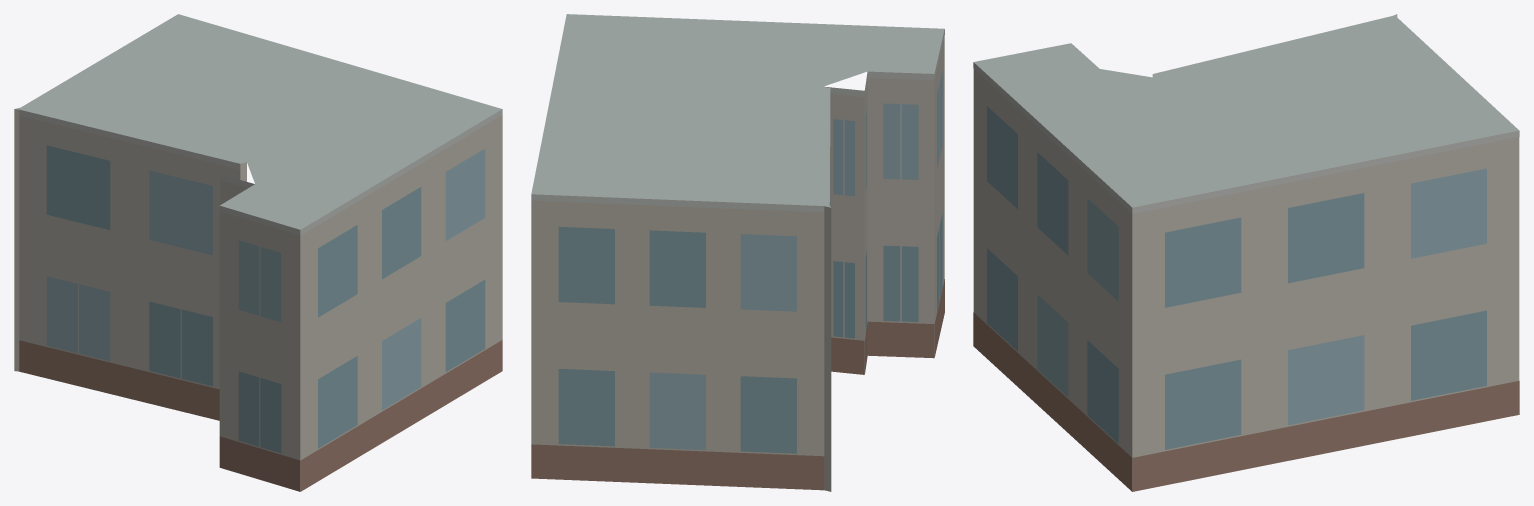
Rendered from survey-upis-32828471.glb.
3 renders of one model, left to right at view 1: azimuth 30°, elevation 25°; view 2: azimuth 150°, elevation 25°; view 3: azimuth 270°, elevation 25°, orthographic. The views are drawn at different scales.
Visible parts, largest first — view 1: survey-upis-32828471.tmp; view 2: survey-upis-32828471.tmp; view 3: survey-upis-32828471.tmp.
Part boxes in pixels (x1,y1,x2,y2): survey-upis-32828471.tmp: (14, 14, 502, 491); survey-upis-32828471.tmp: (531, 14, 944, 491); survey-upis-32828471.tmp: (973, 14, 1519, 491).
Bounding box in the file's own units: 16.04 × 10.97 × 19.11.
